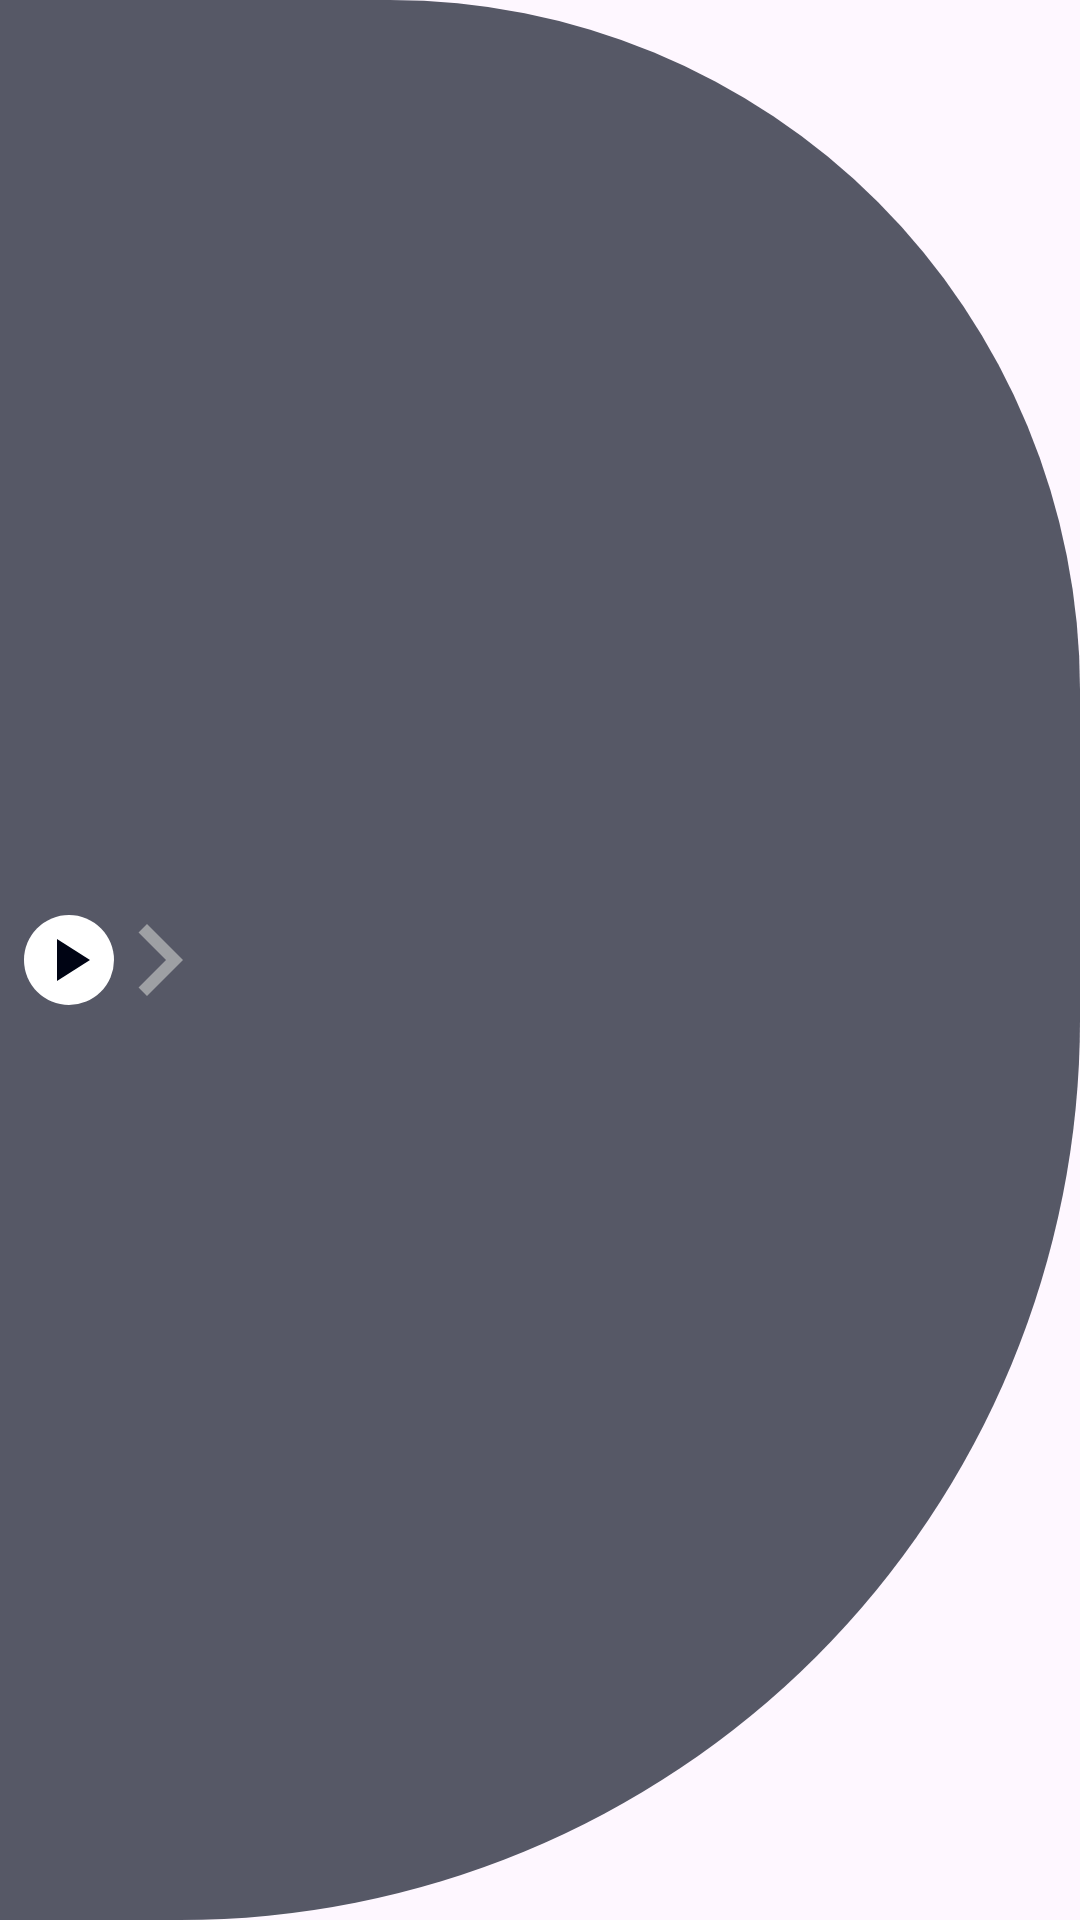

Locate icon controls on the screen. Image size 1080px x 1920px, boxes as (x1,y1,x2,y2).
open arrow: (139,924,183,996)
